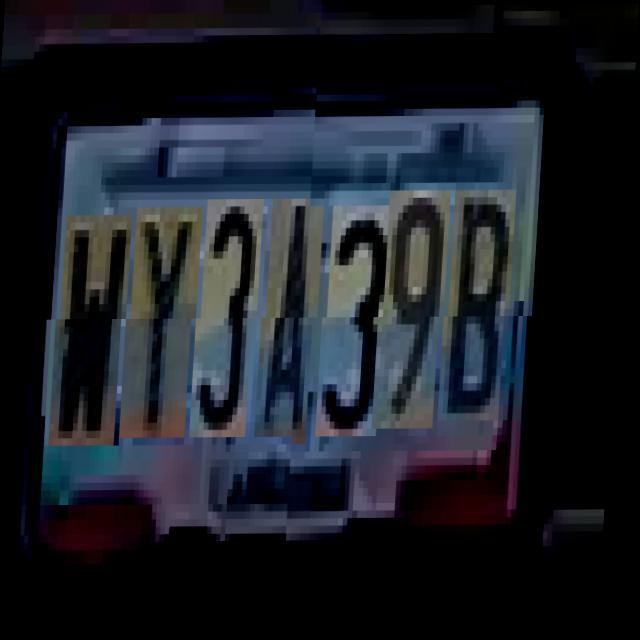3: (198, 207, 266, 445), (326, 206, 396, 437)
9: (382, 191, 454, 429)
A: (264, 206, 326, 444)
B: (448, 190, 518, 422)
W: (58, 222, 134, 453)
Y: (128, 214, 204, 446)
